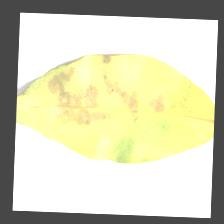black spot: (49, 69, 115, 129)
